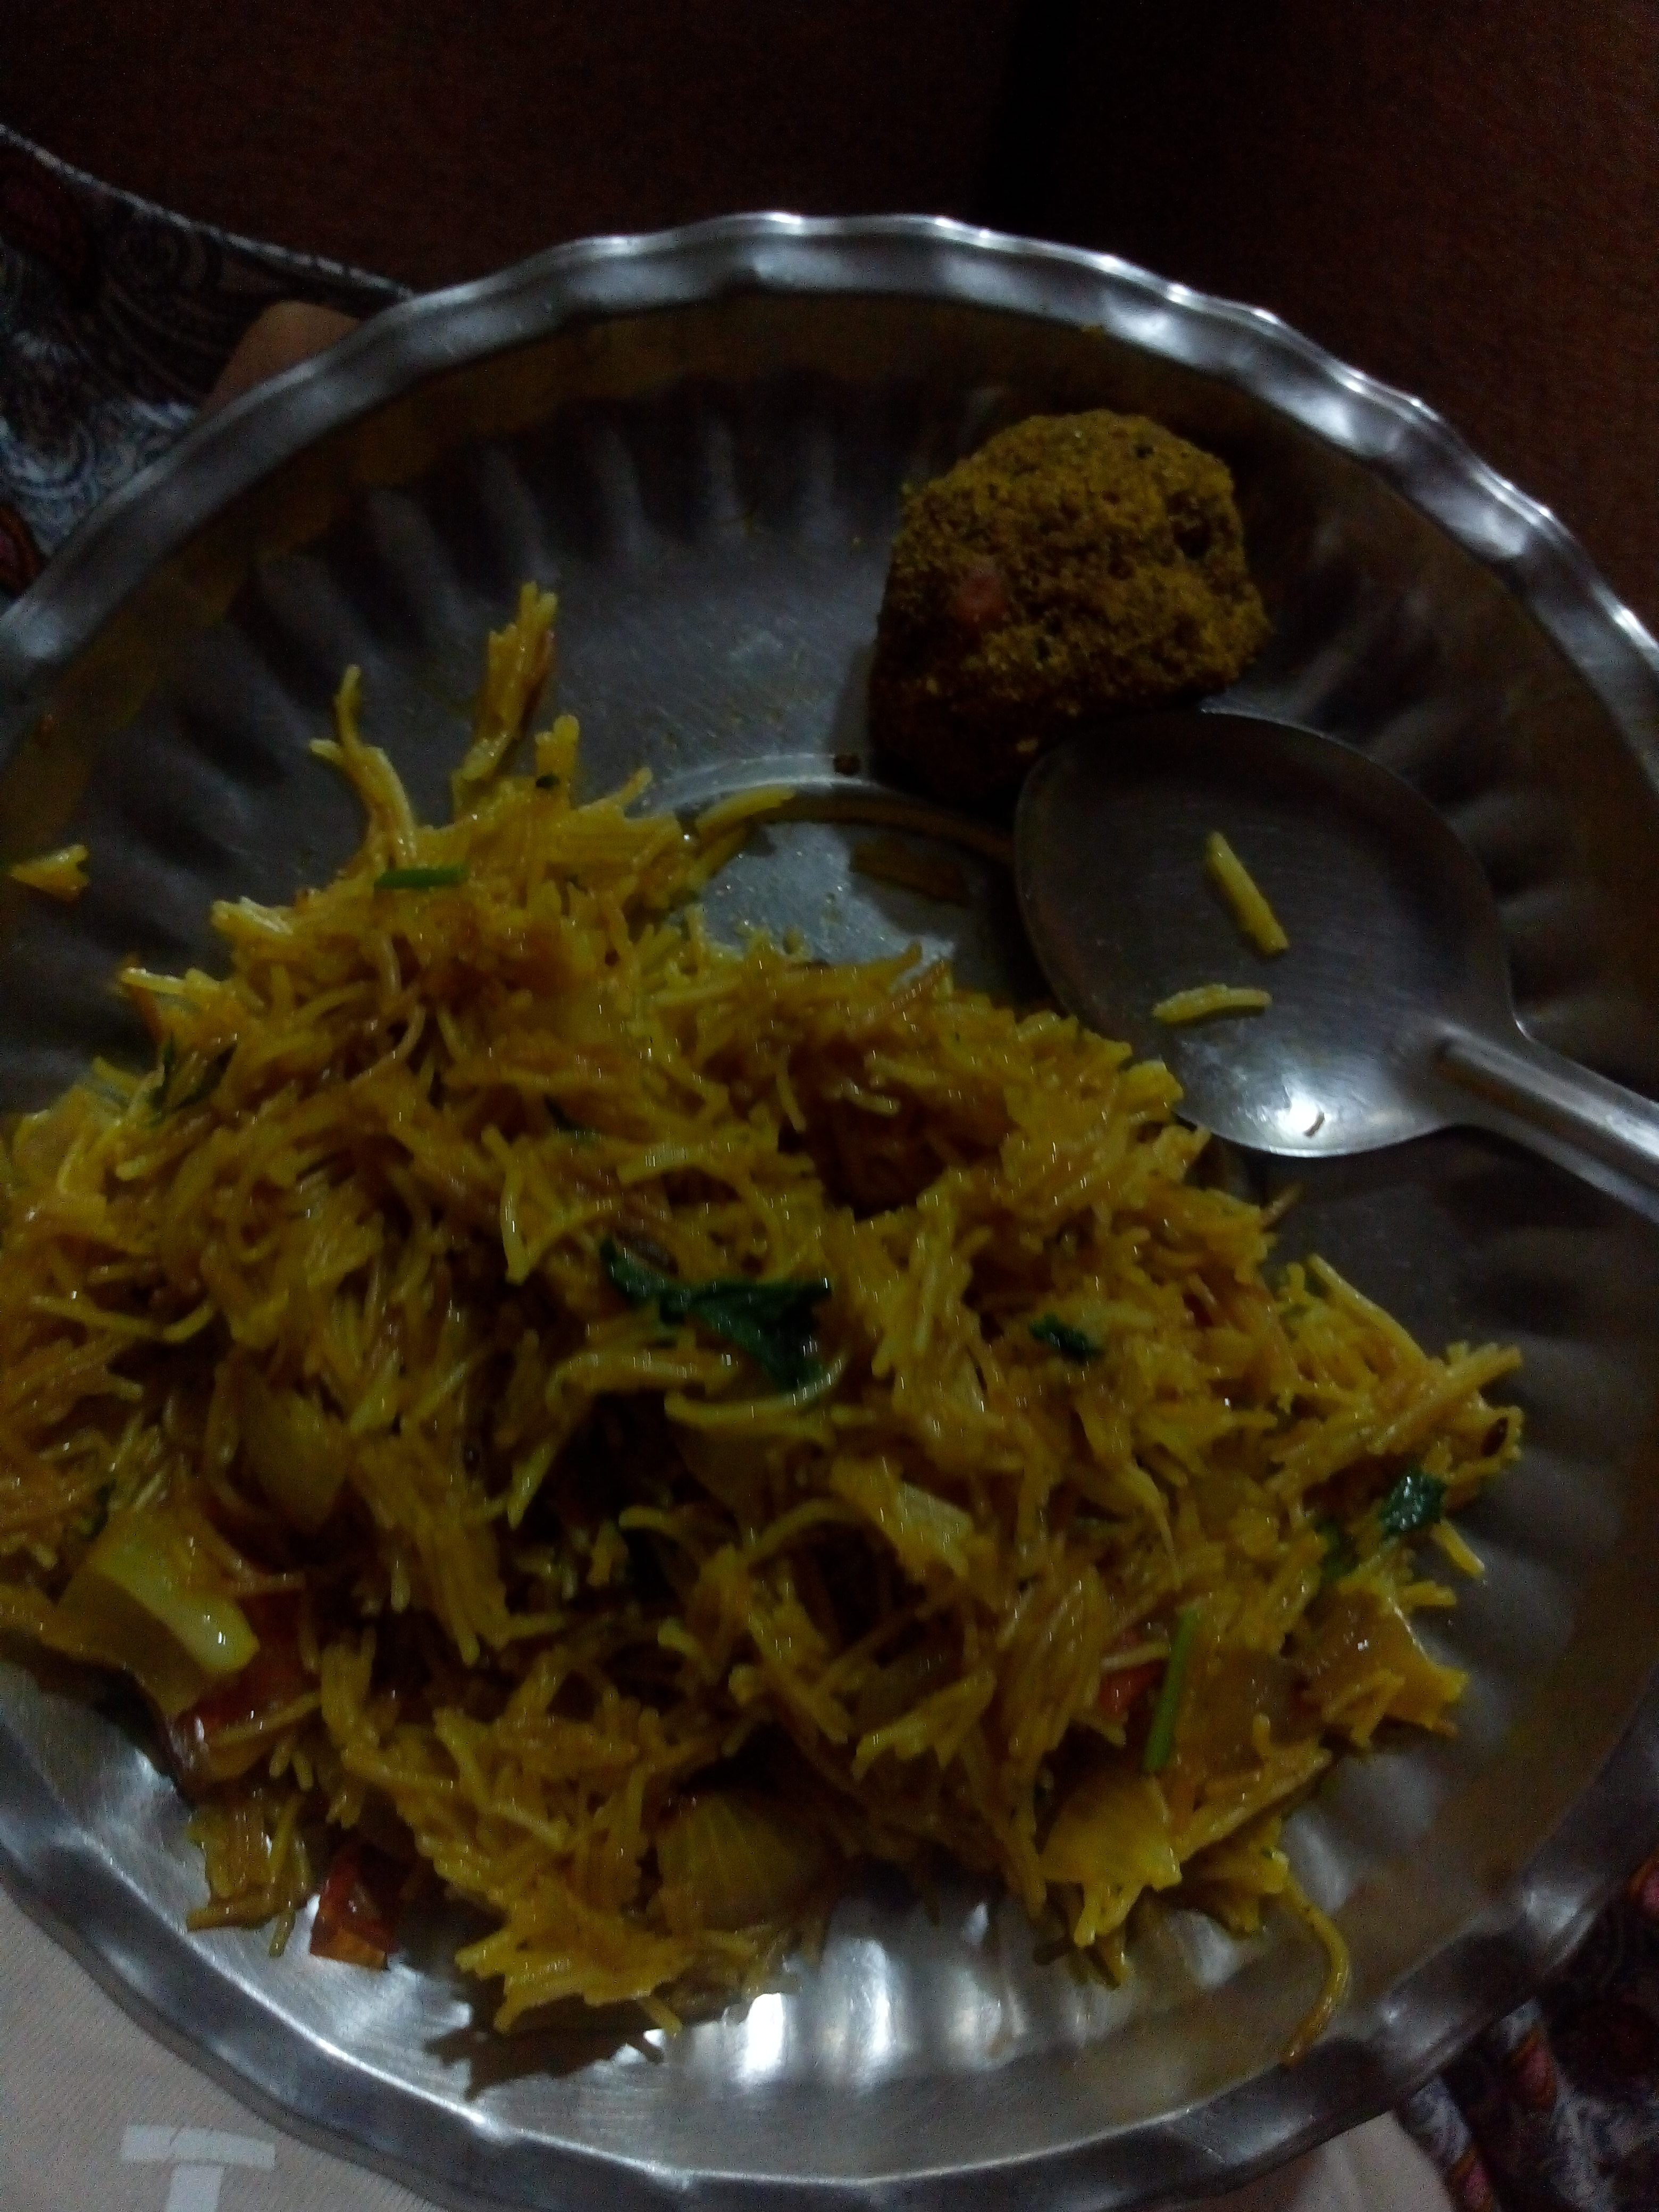food: (0, 392, 1540, 2077)
